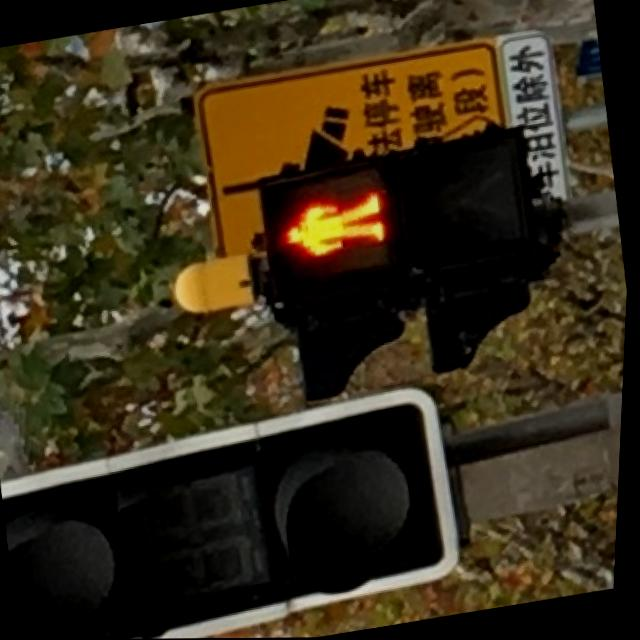red_light: (260, 168, 401, 294)
